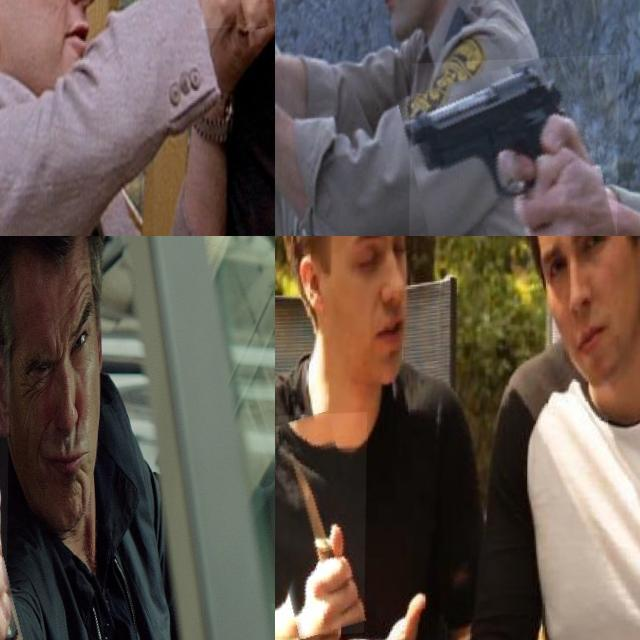-: (275, 413, 368, 638)
gun-knife-thesis - v11 Yolov5 augmented: (409, 60, 620, 236), (0, 347, 54, 640), (202, 0, 275, 136), (275, 0, 334, 123)
